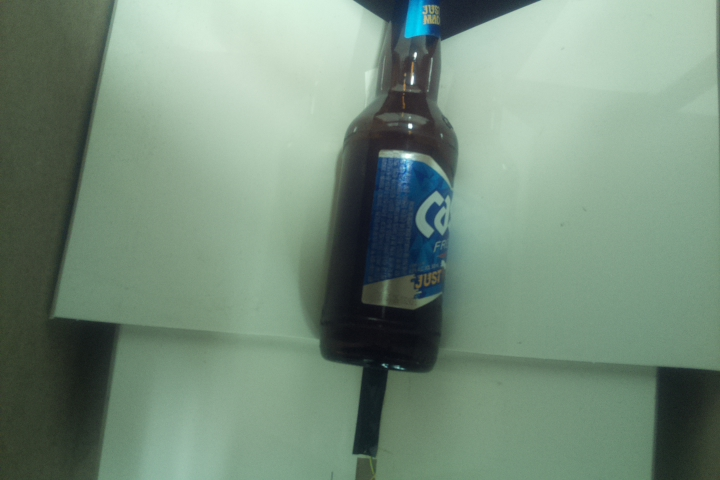makju: (315, 1, 461, 373)
